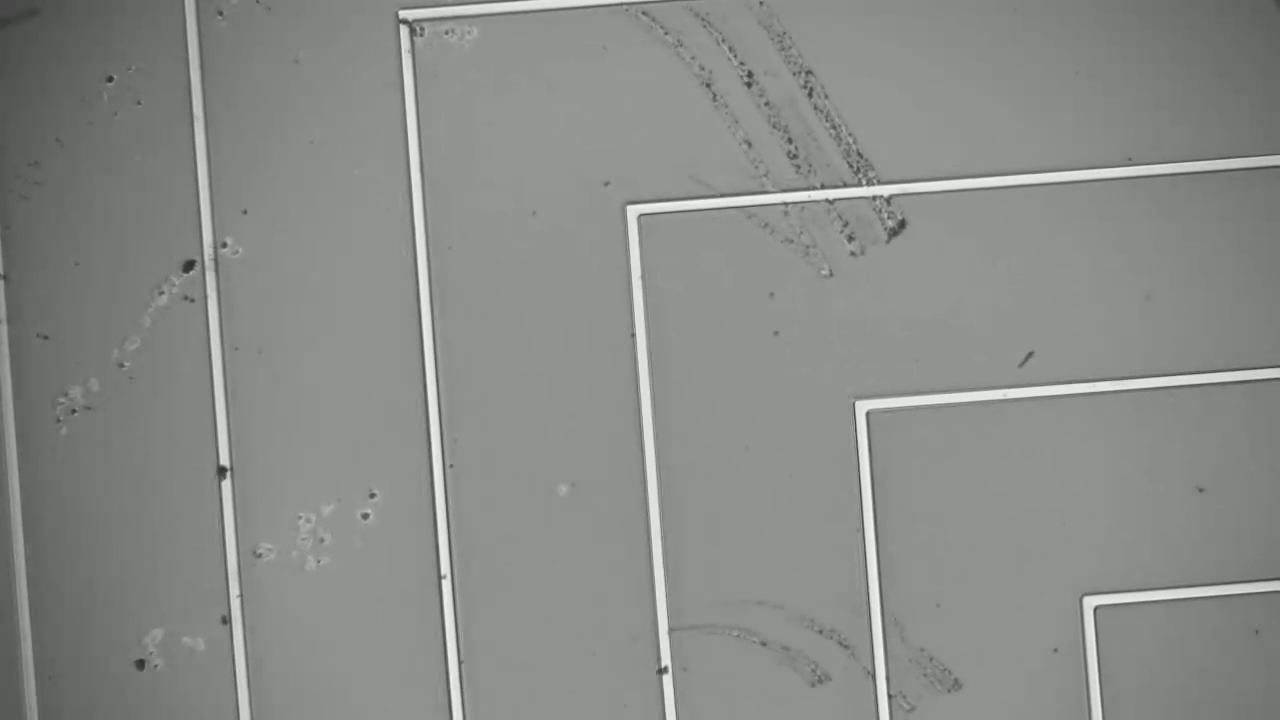scratch: (637, 13, 923, 267)
stains_enbedded: (212, 458, 237, 486), (651, 663, 680, 682)
